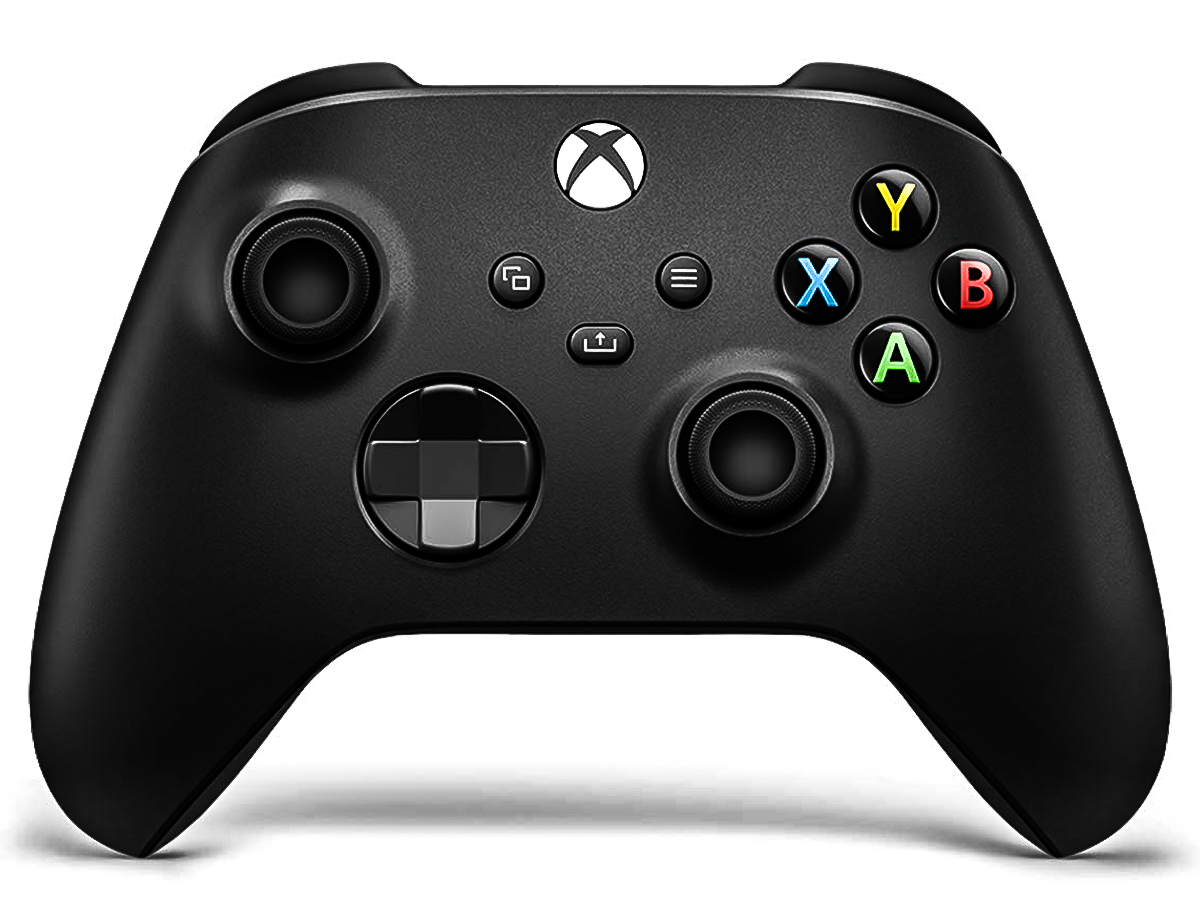controller: (32, 62, 1173, 858)
